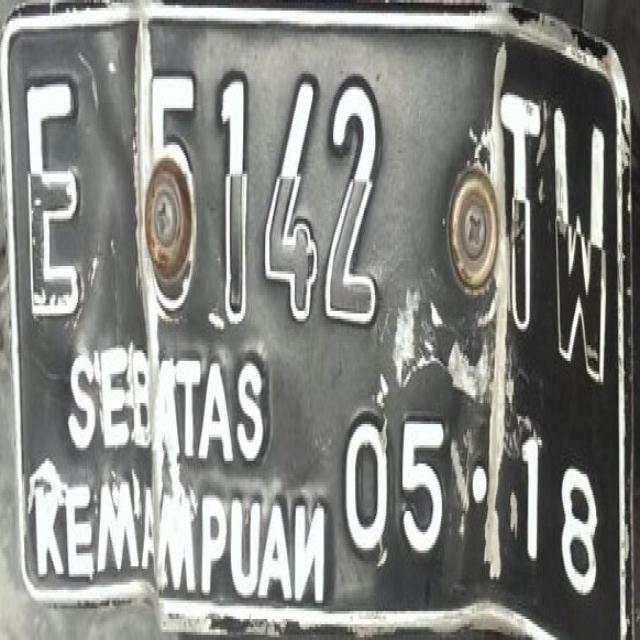plate: (4, 0, 634, 635)
